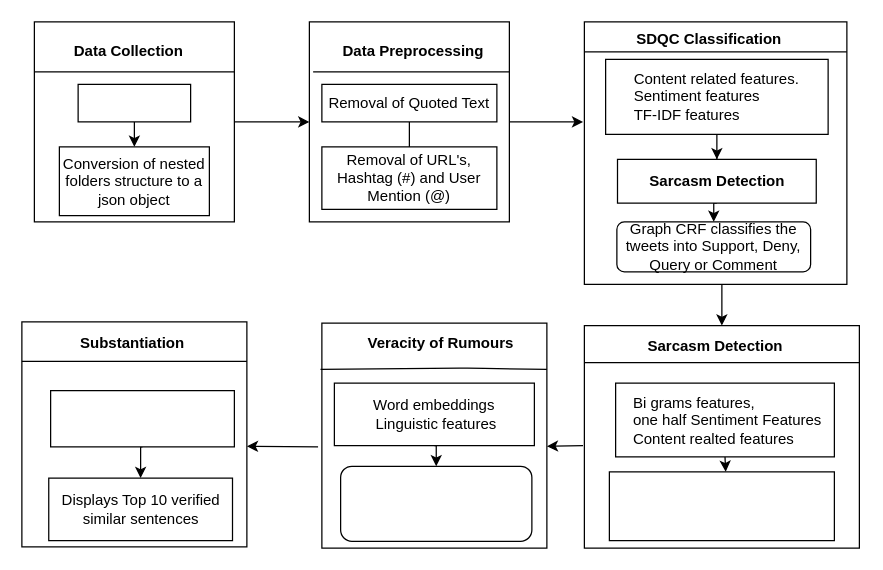
This 883x570 diagram has some shape labels left out. Each missing label, with the centre of its shape:
Linear SVM Classifier (Sarcasm score): the point at 721,506
RumourEval Dataset: the point at 134,102
Searches the internet to provide the evidence from the trusted resources: the point at 141,418
Stacked LSTM classifies the Tweet into Rumour or Not a Rumour: the point at 435,503
